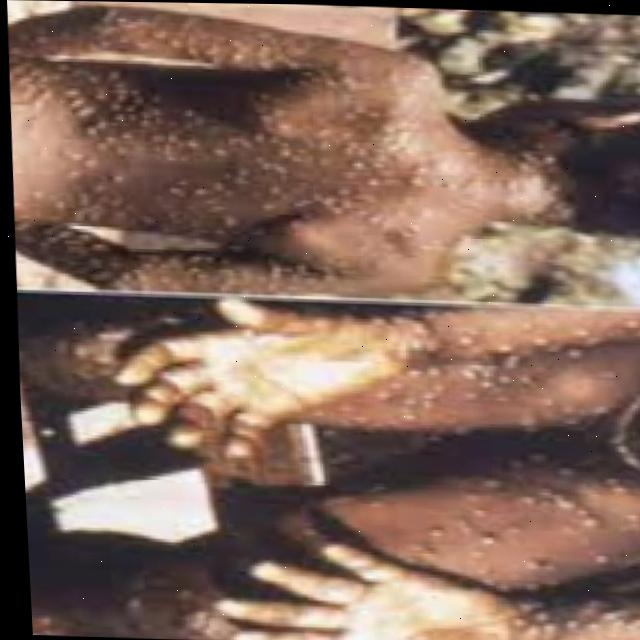Eczema: (45, 20, 405, 299), (331, 320, 640, 640)
